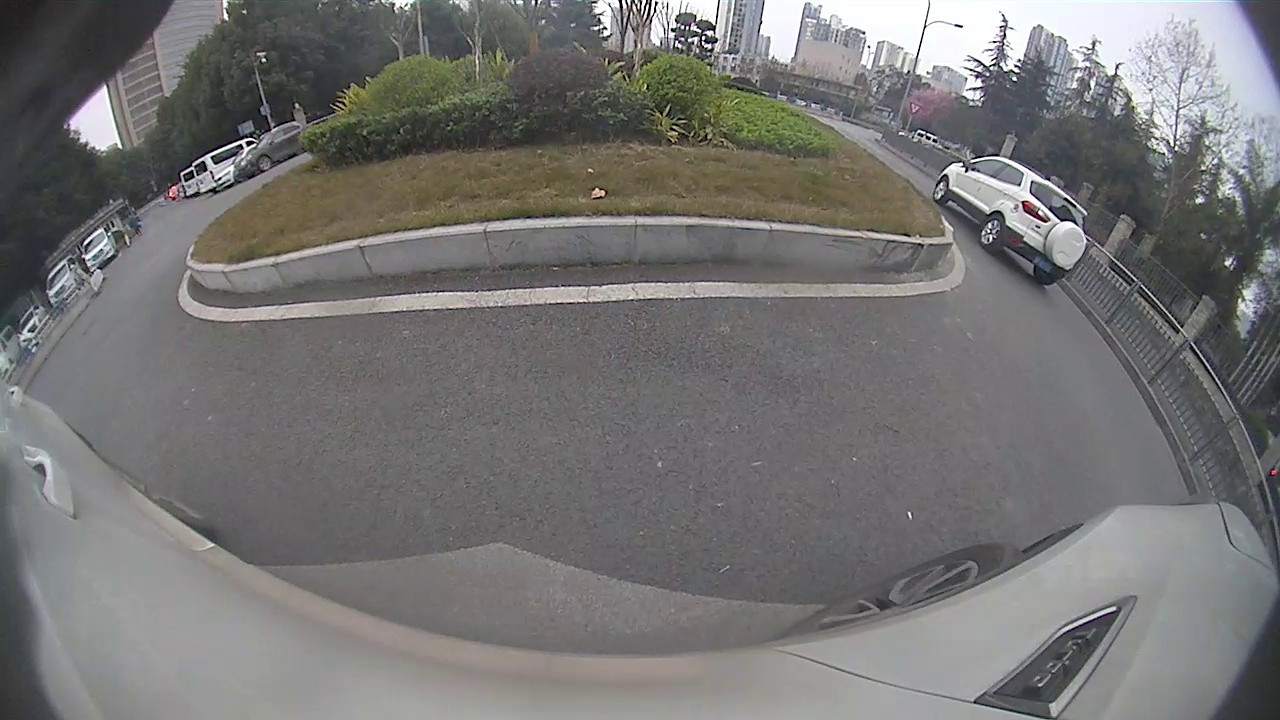car: (934, 157, 1088, 286), (236, 124, 310, 179), (191, 140, 259, 196), (83, 229, 116, 271)
front: (931, 174, 948, 204), (254, 156, 274, 173)
rear: (978, 216, 1007, 249)
